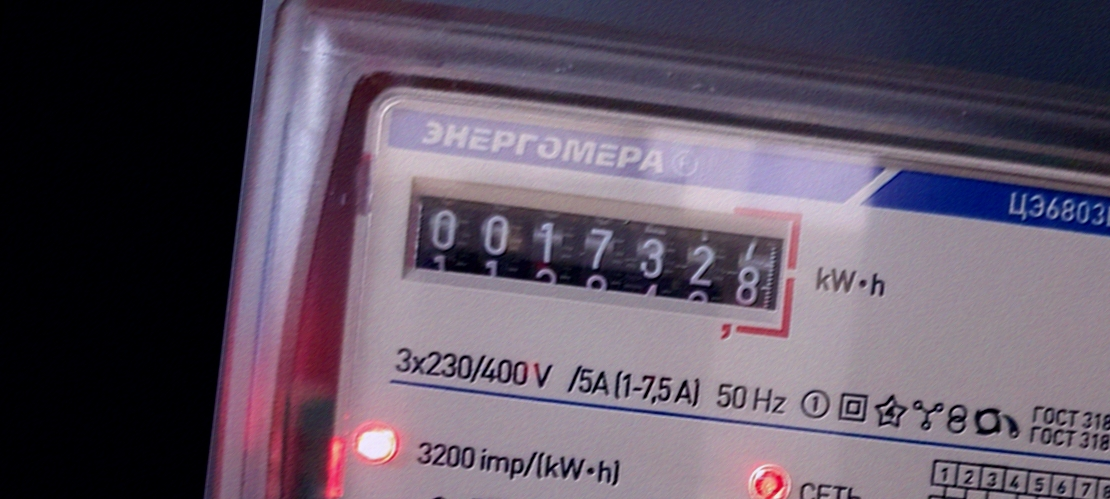0: (426, 207, 463, 255), (480, 211, 514, 260)
1: (533, 219, 560, 267)
2: (685, 243, 719, 291)
3: (636, 236, 668, 283)
7: (583, 226, 615, 275)
8: (732, 264, 762, 309)
screen: (389, 170, 811, 346)
